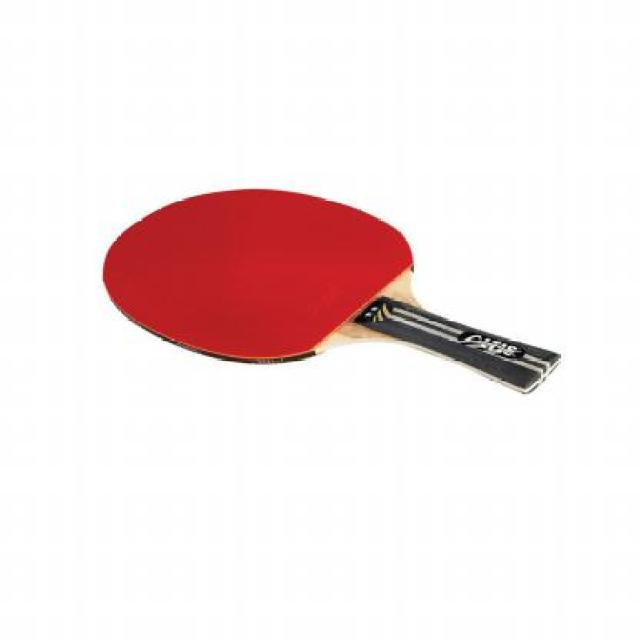table_tennis_racket: (93, 176, 435, 370)
